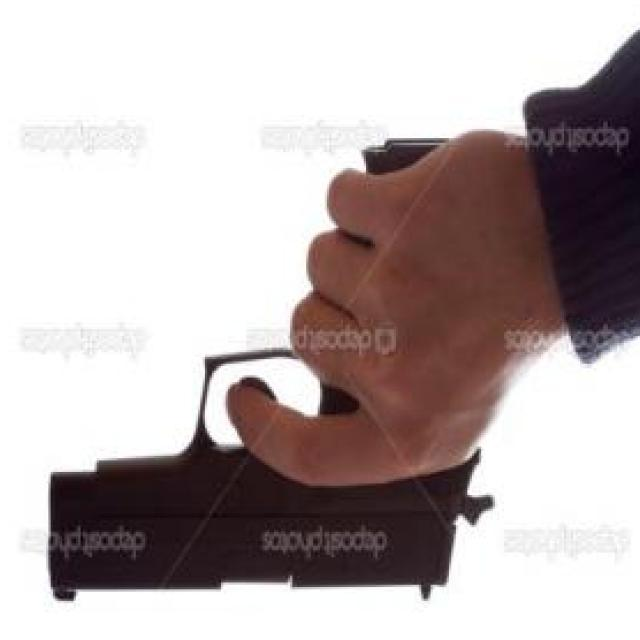pistol: (29, 121, 497, 601)
